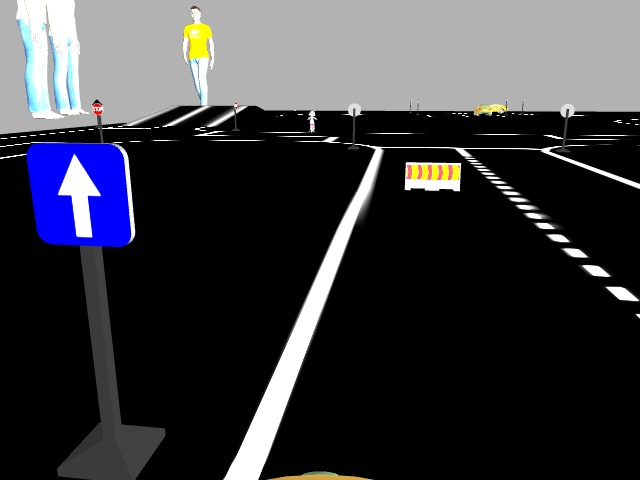ClosedRoadStand: (405, 163, 459, 189)
OneWay: (29, 145, 135, 245)
